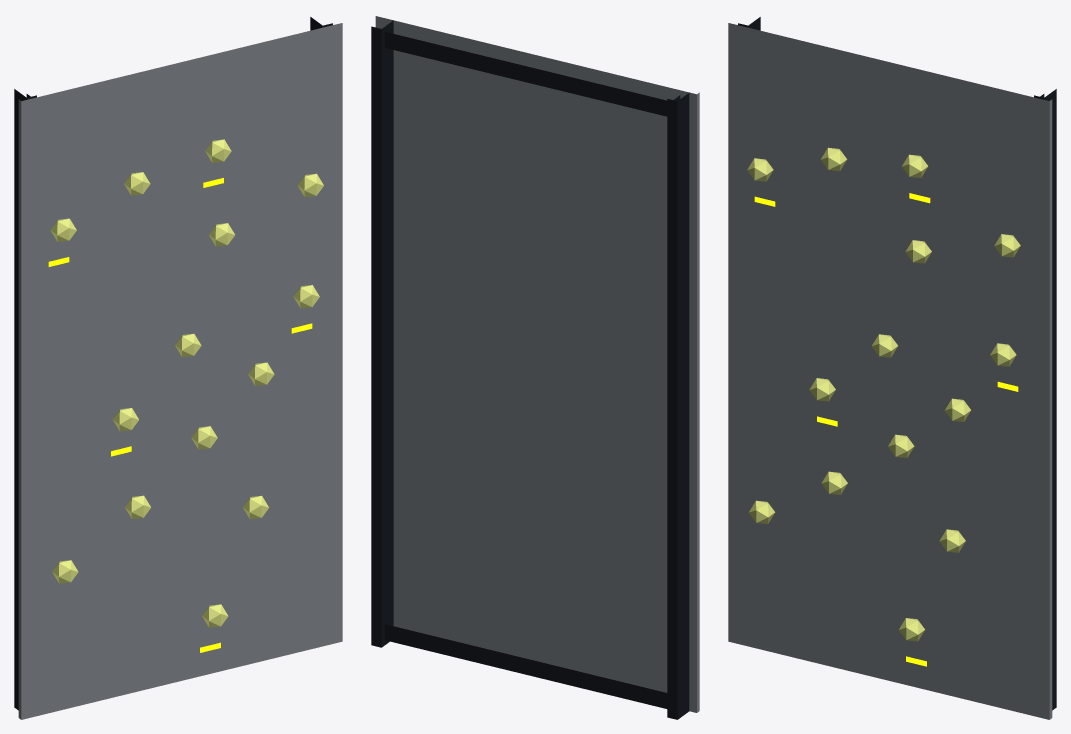
Rendered from tt_climbing_panel.glb.
3 views of the same model, side by side, from view 1: azimuth 30°, elevation 25°; view 2: azimuth 150°, elevation 25°; view 3: azimuth 330°, elevation 25° (orthographic).
Parts seen in each view (by area): view 1: Face_Sheet, Holds, Sub_Frame, Route_Tape; view 2: Face_Sheet, Sub_Frame; view 3: Face_Sheet, Holds, Sub_Frame, Route_Tape.
Boxes of the visible parts, bbox=[...] form: Face_Sheet: bbox=[18, 23, 342, 719]; Holds: bbox=[50, 139, 323, 627]; Sub_Frame: bbox=[14, 17, 332, 710]; Route_Tape: bbox=[48, 178, 312, 652]; Face_Sheet: bbox=[375, 16, 699, 712]; Sub_Frame: bbox=[371, 20, 689, 719]; Face_Sheet: bbox=[728, 23, 1052, 719]; Holds: bbox=[747, 147, 1020, 641]; Sub_Frame: bbox=[738, 17, 1056, 710]; Route_Tape: bbox=[754, 193, 1018, 666].
Size of what is drawn, in the model's own units: 1.25 by 2.3 by 0.1706.
4 materials, 1 textured.
